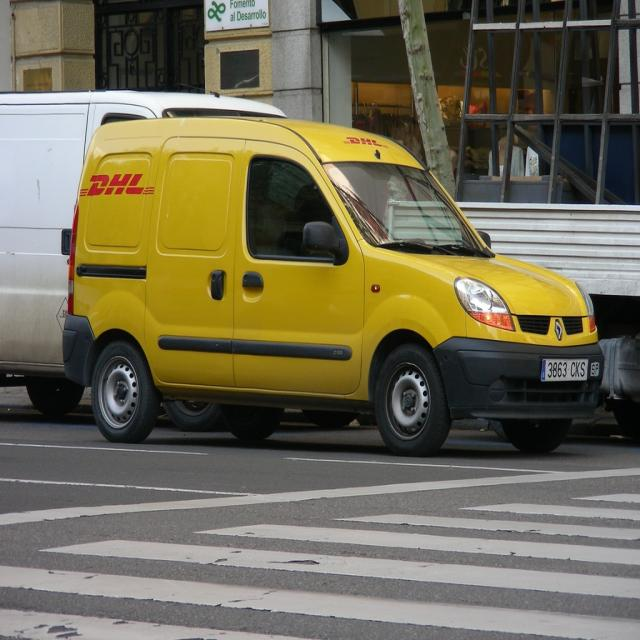dhl: (80, 172, 159, 201), (342, 133, 390, 151)
